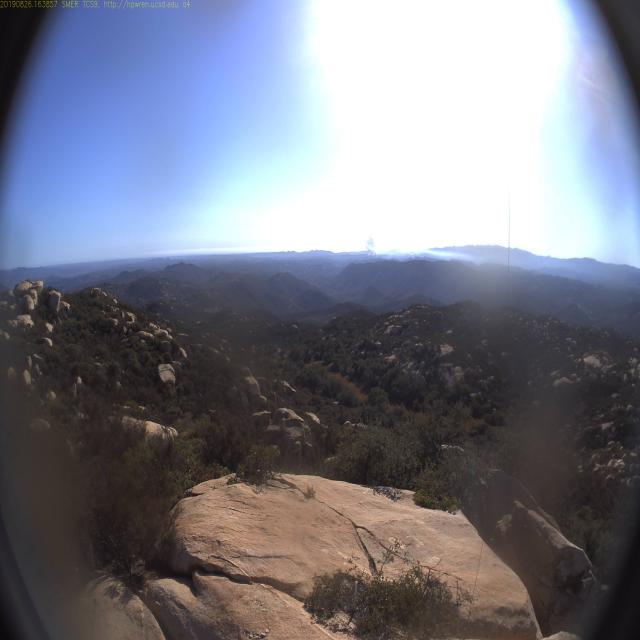smoke: (368, 236, 382, 258)
